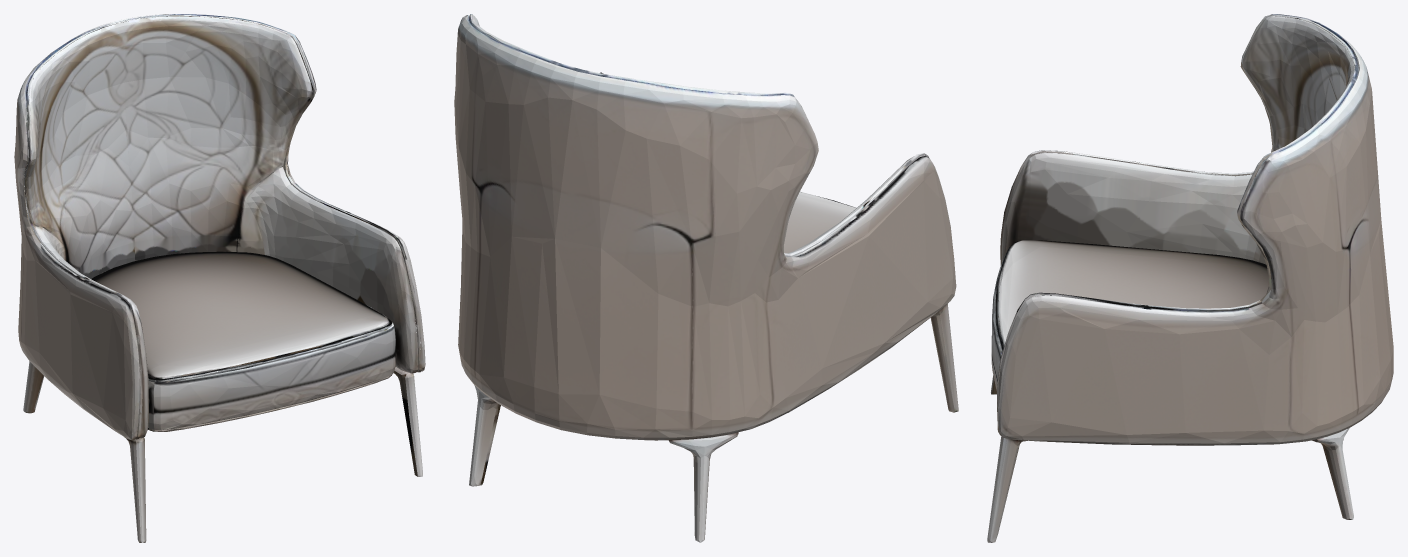
The model's file is edited_mesh.glb.
The picture shows the model from 3 angles, left to right: view 1: azimuth 30°, elevation 25°; view 2: azimuth 150°, elevation 25°; view 3: azimuth 270°, elevation 25°; orthographic projection. The views are drawn at different scales.
Visible parts, largest first — view 1: solid_001_wire; view 2: solid_001_wire; view 3: solid_001_wire.
Boxes of the visible parts, x1,y1,x2,y2 form: solid_001_wire: [14, 14, 425, 542]; solid_001_wire: [454, 14, 958, 542]; solid_001_wire: [987, 14, 1393, 542].
Size of the model in its own units: 1.17 by 1.37 by 1.26.
1 material, 1 textured.
